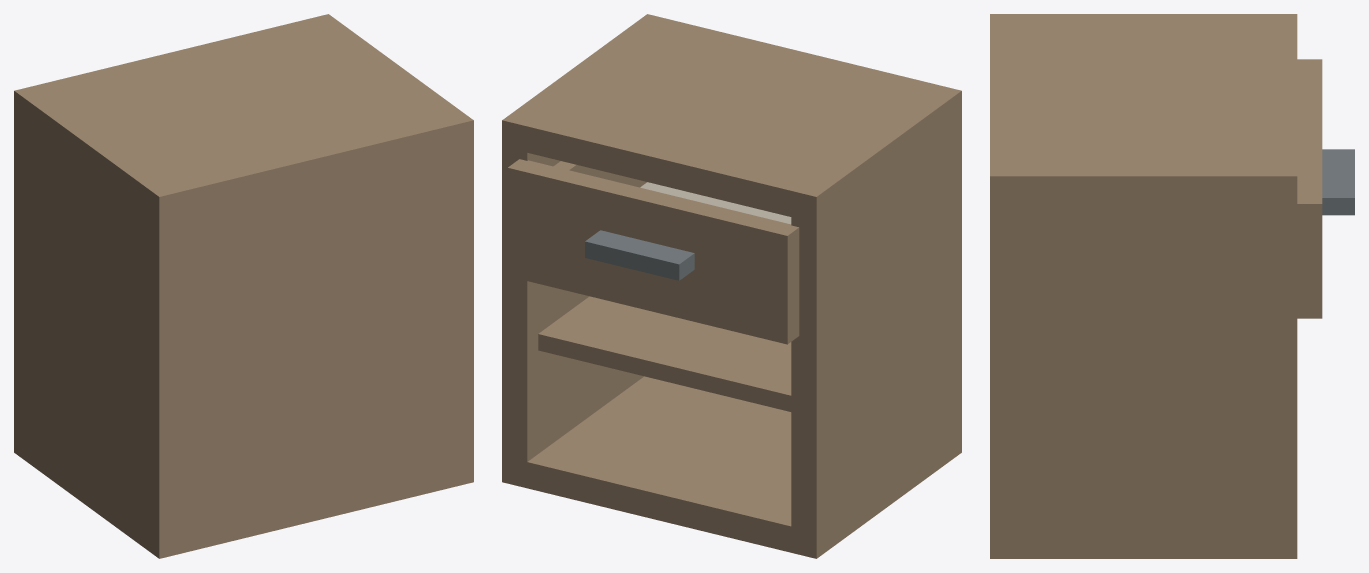
File: nightstand_apartment.glb
3 renders of one model, left to right at view 1: azimuth 30°, elevation 25°; view 2: azimuth 150°, elevation 25°; view 3: azimuth 270°, elevation 25°, orthographic. The views are drawn at different scales.
Parts seen in each view (by area): view 1: body; view 2: body, drawer_01; view 3: body, drawer_01.
Boxes of the visible parts, x1=… form: body: x1=14, y1=14, x2=473, y2=558; body: x1=502, y1=14, x2=961, y2=558; drawer_01: x1=507, y1=159, x2=799, y2=344; body: x1=990, y1=14, x2=1297, y2=558; drawer_01: x1=1297, y1=59, x2=1354, y2=318.
Bounding box in the file's own units: 0.5 × 0.55 × 0.475.
